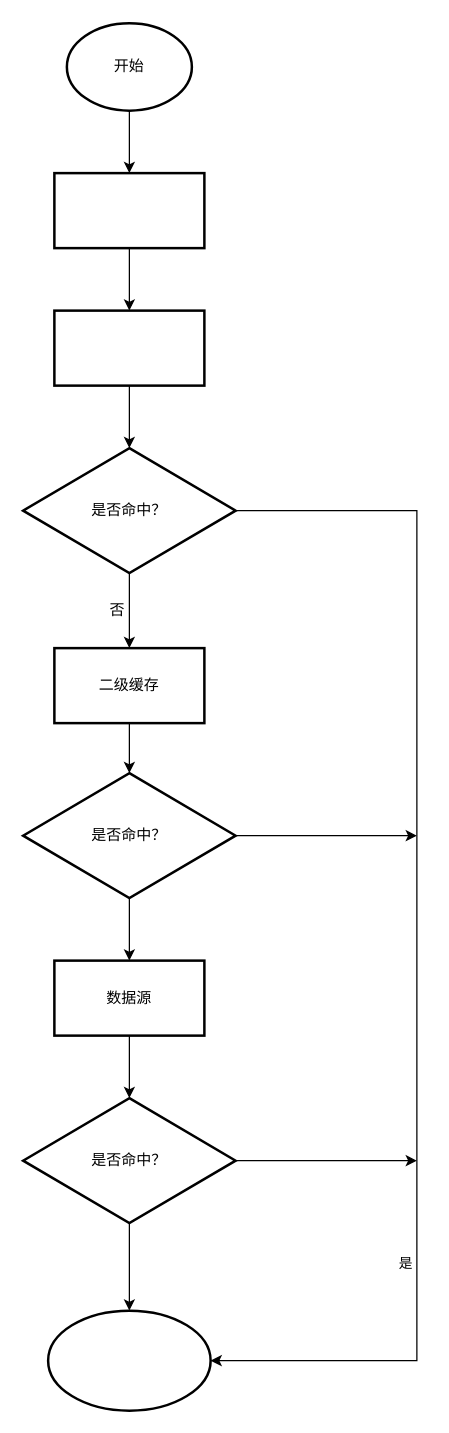
Some shapes in this 449 by 1433 pixel diagram are drawn without their labels. The centre of each missing label's shape, as x and y in pixels:
一级缓存: point (128, 347)
结束: point (128, 1360)
读请求: point (128, 210)
